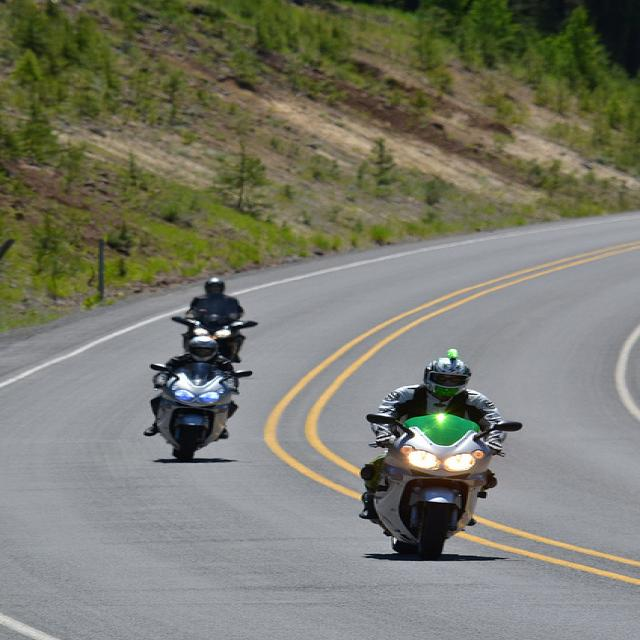motor: (369, 415, 524, 558), (145, 361, 253, 462), (165, 313, 259, 358)
